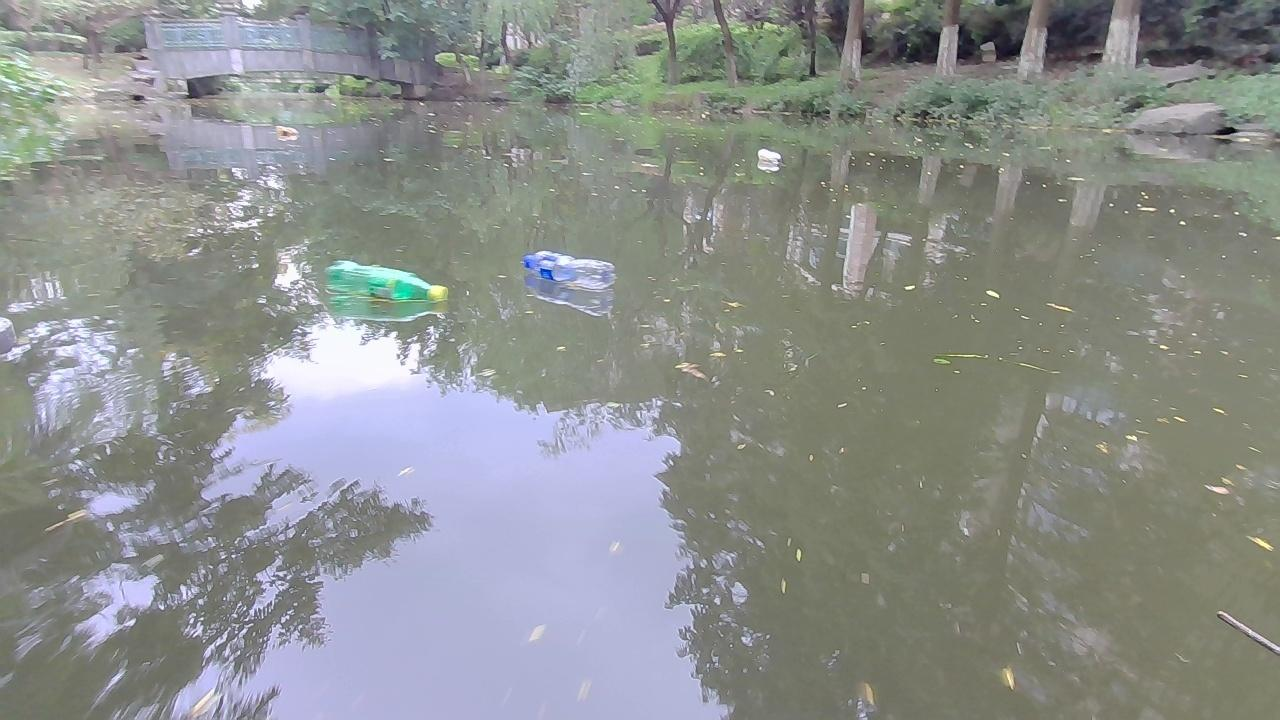bottle: (320, 254, 454, 302), (518, 250, 617, 286), (271, 123, 299, 137), (757, 147, 783, 162)
